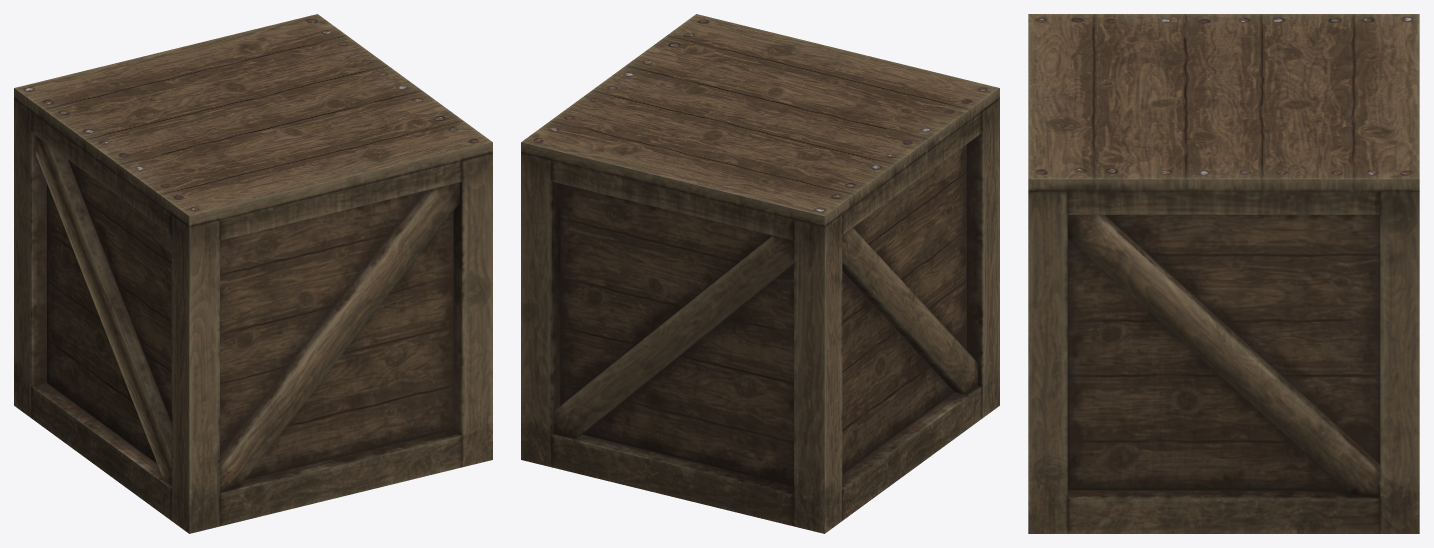
Rendered from wooden box 1.fbx.
3 renders of one model, left to right at view 1: azimuth 30°, elevation 25°; view 2: azimuth 150°, elevation 25°; view 3: azimuth 270°, elevation 25°, orthographic. The views are drawn at different scales.
Visible parts, largest first — view 1: Wooden_box_01; view 2: Wooden_box_01; view 3: Wooden_box_01.
Boxes of the visible parts, bbox=[...] form: Wooden_box_01: bbox=[14, 14, 492, 533]; Wooden_box_01: bbox=[521, 14, 999, 533]; Wooden_box_01: bbox=[1028, 14, 1419, 533].
Bounding box in the file's own units: 32.82 × 32.82 × 32.82.
